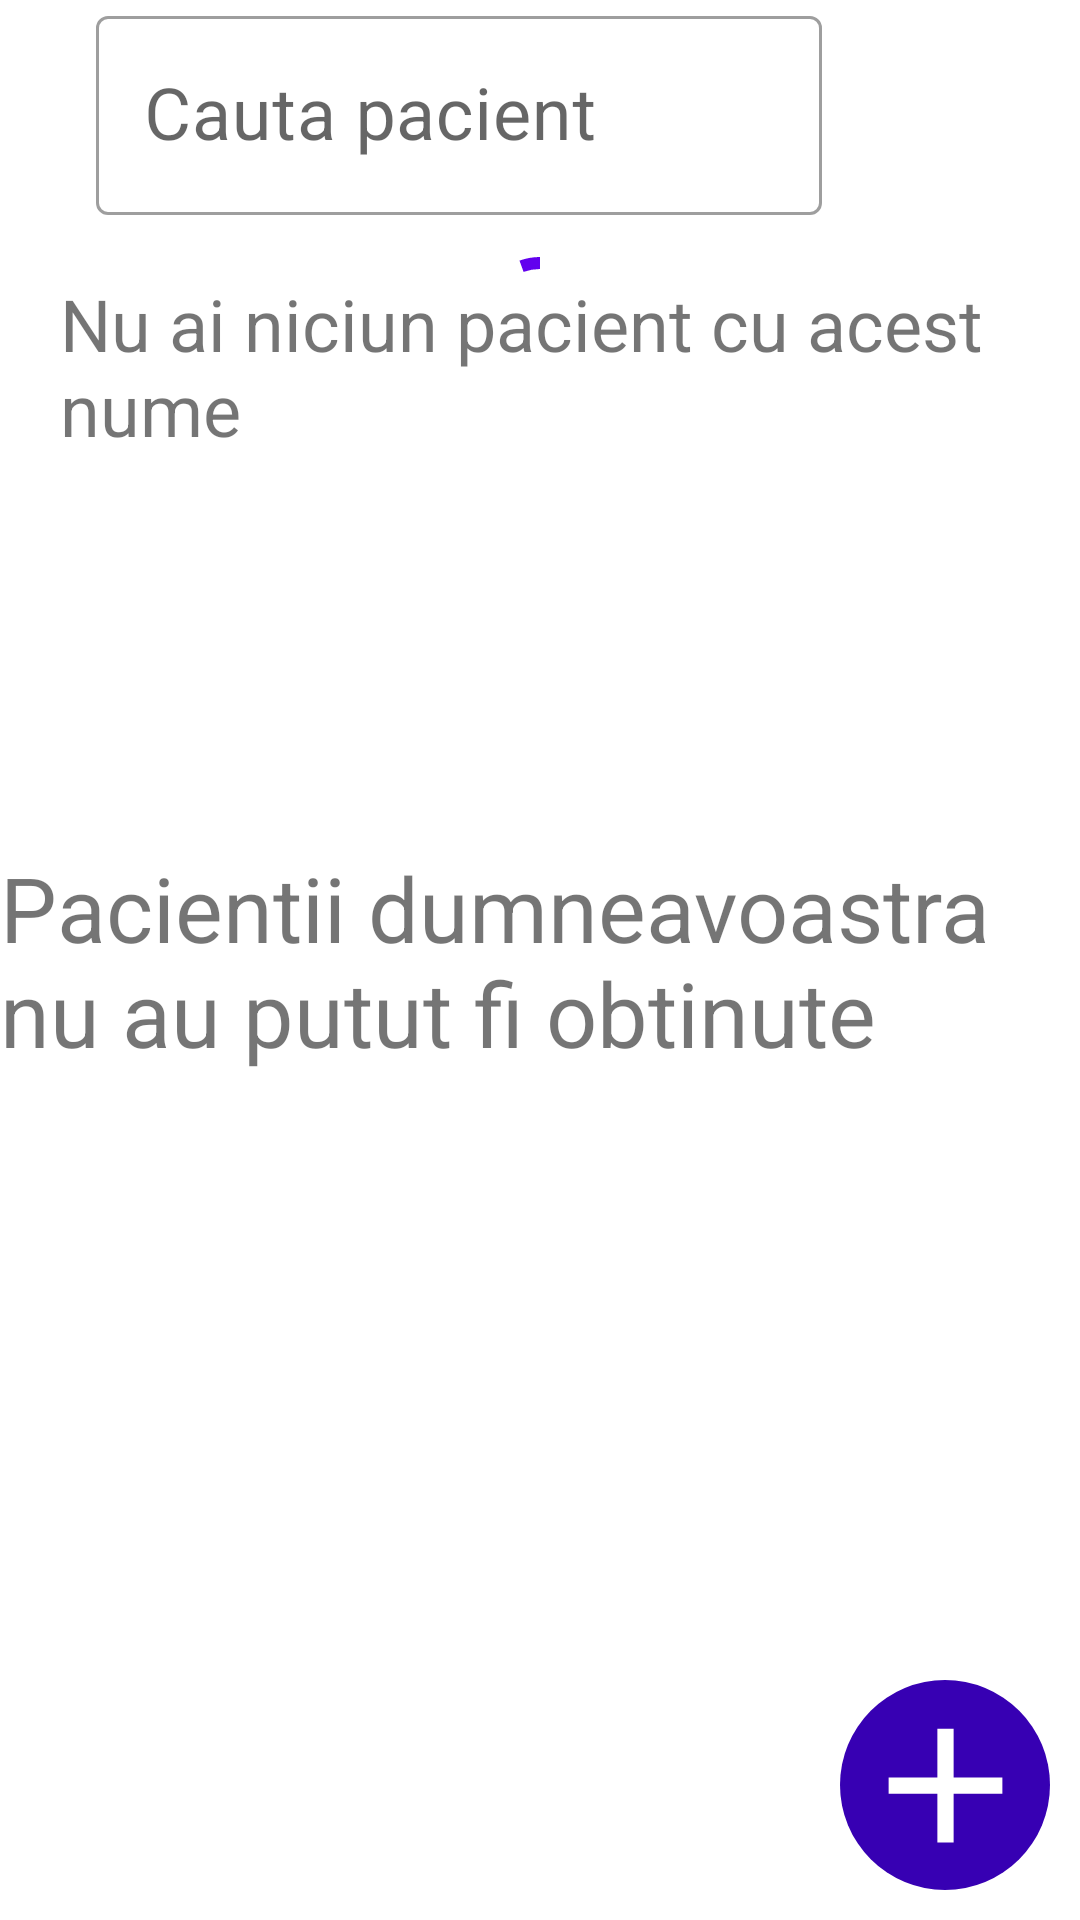

Icon bounding boxes for this 1080px x 1920px phone screenshot, format rect(x1, y1, x2, y2):
add: rect(840, 1680, 1050, 1890)
